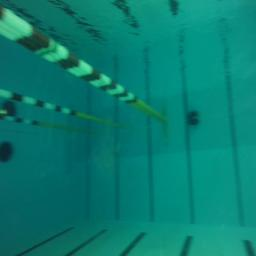Full: (187, 118, 198, 126)
